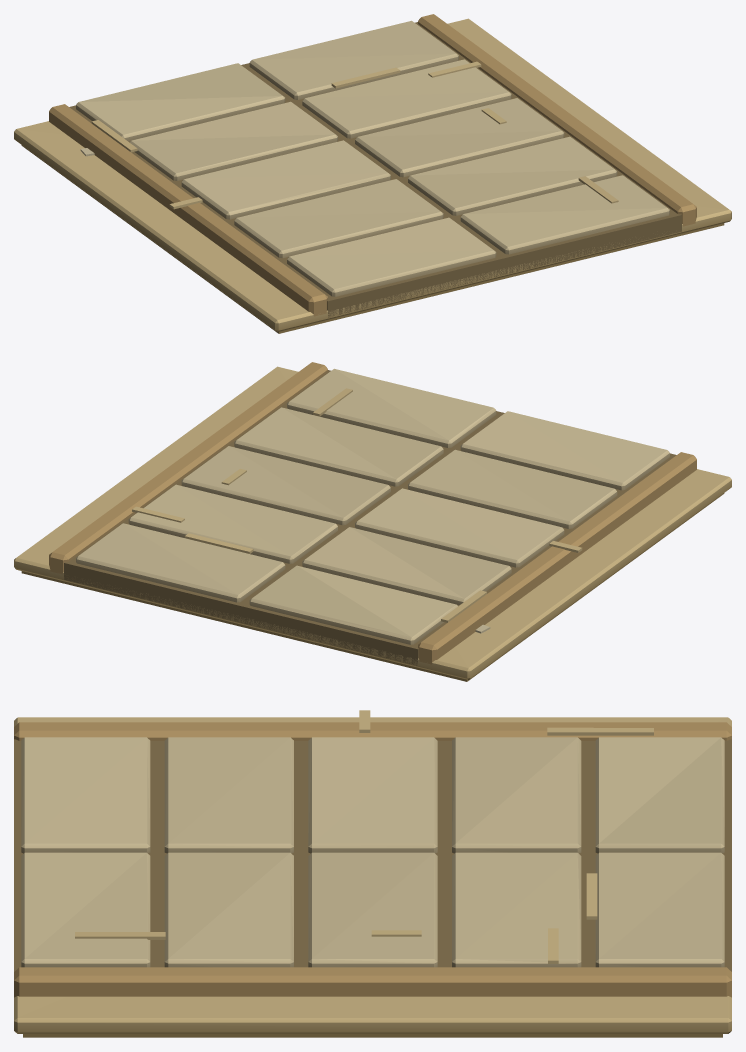
File: road-sand-straight.glb
3 views of the same model, one above another, from view 1: azimuth 30°, elevation 25°; view 2: azimuth 150°, elevation 25°; view 3: azimuth 270°, elevation 25° (orthographic). The views are drawn at different scales.
Visible parts, largest first — view 1: road_sand_straight; view 2: road_sand_straight; view 3: road_sand_straight.
Part boxes in pixels (x1,y1,x2,y2): road_sand_straight: [14, 14, 731, 333]; road_sand_straight: [14, 362, 731, 681]; road_sand_straight: [14, 710, 731, 1037].
Bounding box in the file's own units: 4 × 0.2671 × 4.
